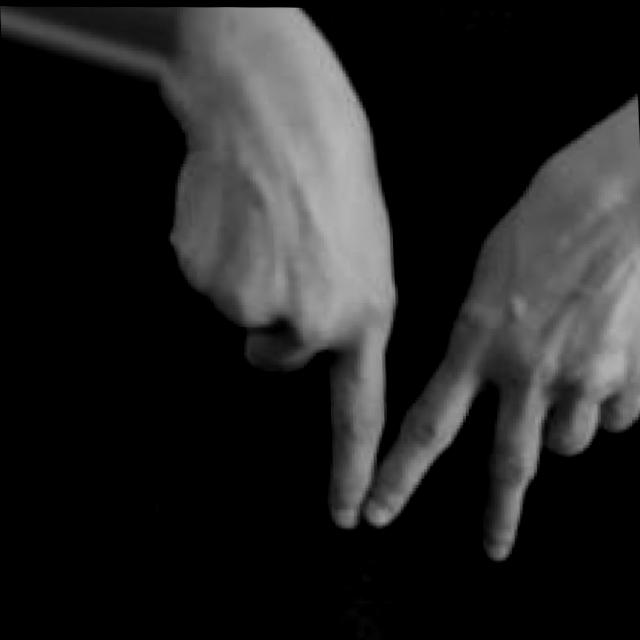N: (160, 123, 640, 575)
